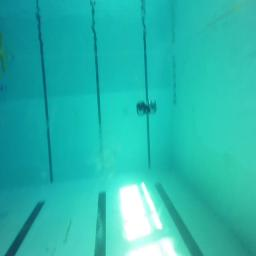Full: (136, 99, 156, 116)
